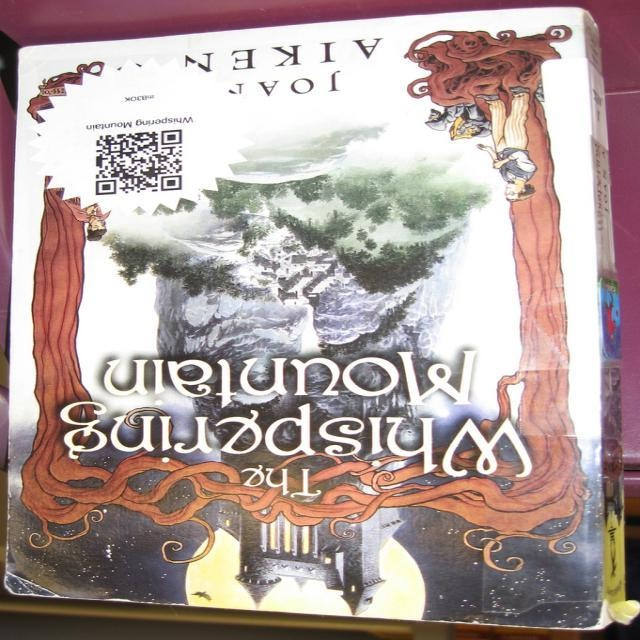qr-code: (95, 130, 182, 195)
